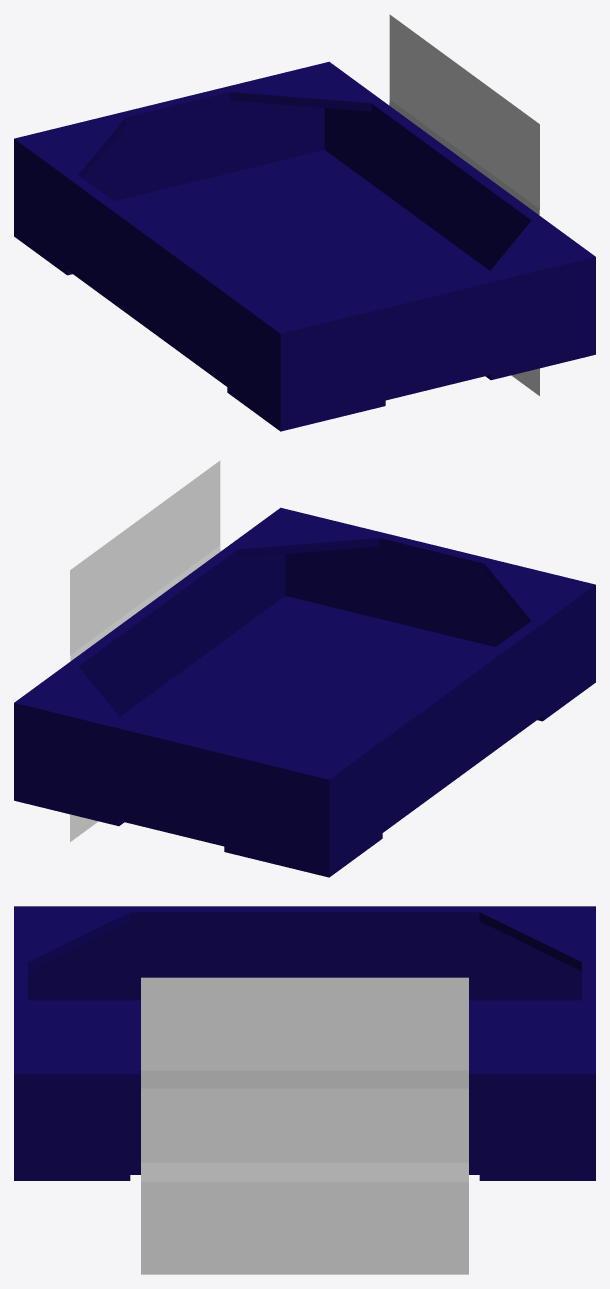
The model's file is Caja de latas o snacks 2.fbx.
3 views of the same model, one above another, from view 1: azimuth 30°, elevation 25°; view 2: azimuth 150°, elevation 25°; view 3: azimuth 270°, elevation 25° (orthographic). The views are drawn at different scales.
Parts seen in each view (by area): view 1: Cube, Marcas Piratas-14; view 2: Cube, Marcas Piratas-14; view 3: Marcas Piratas-14, Cube.
Part boxes in pixels (x1,y1,x2,y2): Cube: (14,61,595,431); Marcas Piratas-14: (389,14,539,395); Cube: (14,507,595,877); Marcas Piratas-14: (70,460,220,841); Marcas Piratas-14: (141,977,468,1274); Cube: (14,906,595,1180).
Bounding box in the file's own units: 1004 × 823 × 1461.
